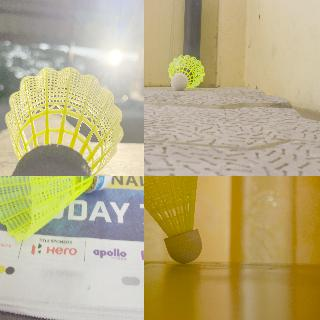shuttlecock: (4, 68, 122, 175), (0, 176, 112, 240), (144, 176, 202, 264), (168, 54, 205, 90)
